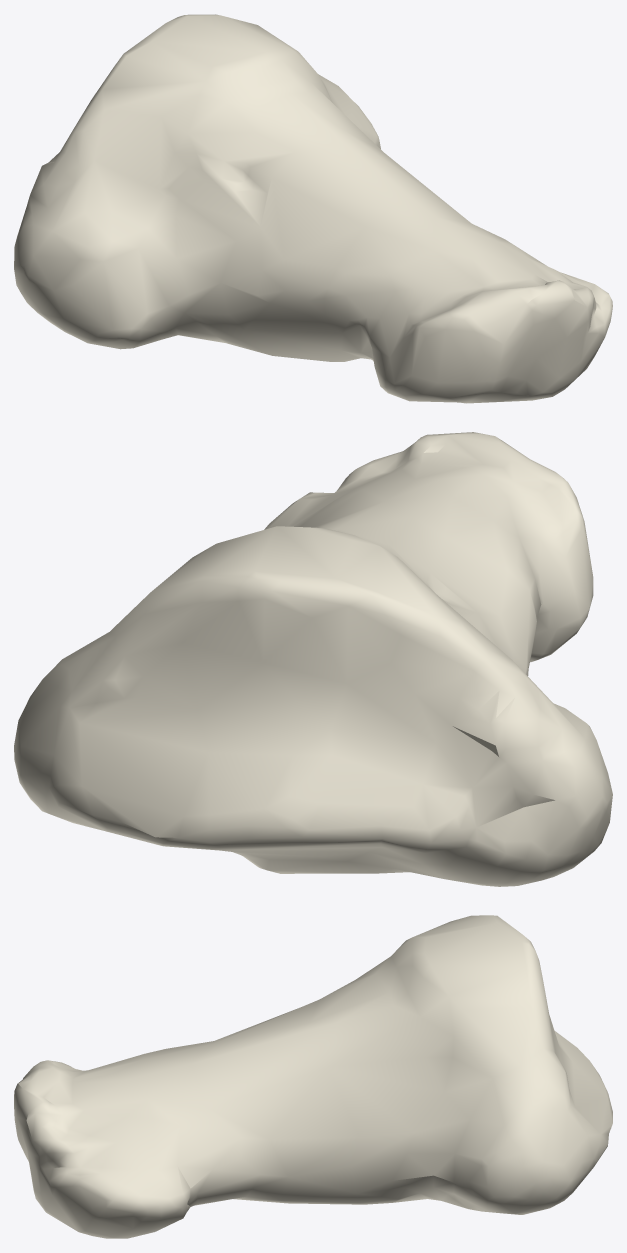
The model's file is fma32651.glb.
3 renders of one model, top to bottom at view 1: azimuth 30°, elevation 25°; view 2: azimuth 150°, elevation 25°; view 3: azimuth 270°, elevation 25°, orthographic. The views are drawn at different scales.
Parts seen in each view (by area): view 1: FMA32651; view 2: FMA32651; view 3: FMA32651.
Part boxes in pixels (x1=…): FMA32651: x1=14, y1=14, x2=612, y2=403; FMA32651: x1=14, y1=432, x2=612, y2=886; FMA32651: x1=14, y1=915, x2=612, y2=1238.
Bounding box in the file's own units: 0.0201 × 0.0112 × 0.026.
